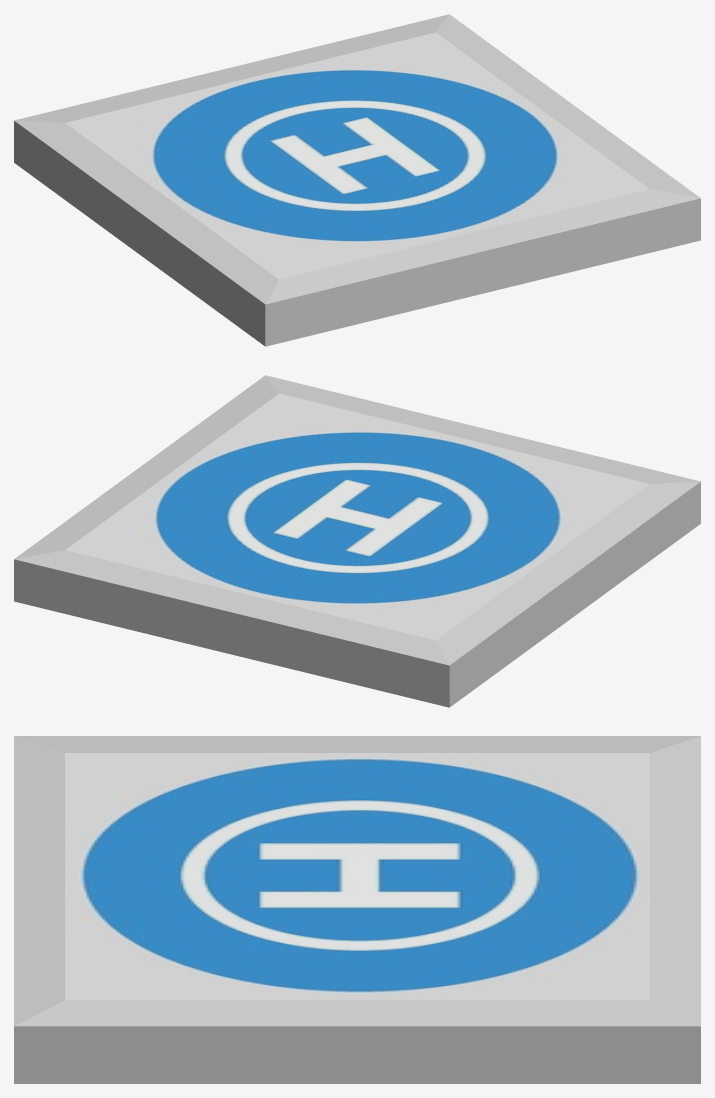
Rendered from landing_pad.dae.
The picture shows the model from 3 angles, top to bottom: view 1: azimuth 30°, elevation 25°; view 2: azimuth 150°, elevation 25°; view 3: azimuth 270°, elevation 25°; orthographic projection. The views are drawn at different scales.
Parts seen in each view (by area): view 1: Cube; view 2: Cube; view 3: Cube.
Boxes of the visible parts, <box> form: Cube: <box>14,14,700,346</box>; Cube: <box>14,375,700,707</box>; Cube: <box>14,736,700,1083</box>.
Bounding box in the file's own units: 2 × 2 × 0.2.
Materials: 2 (1 with a texture image).
